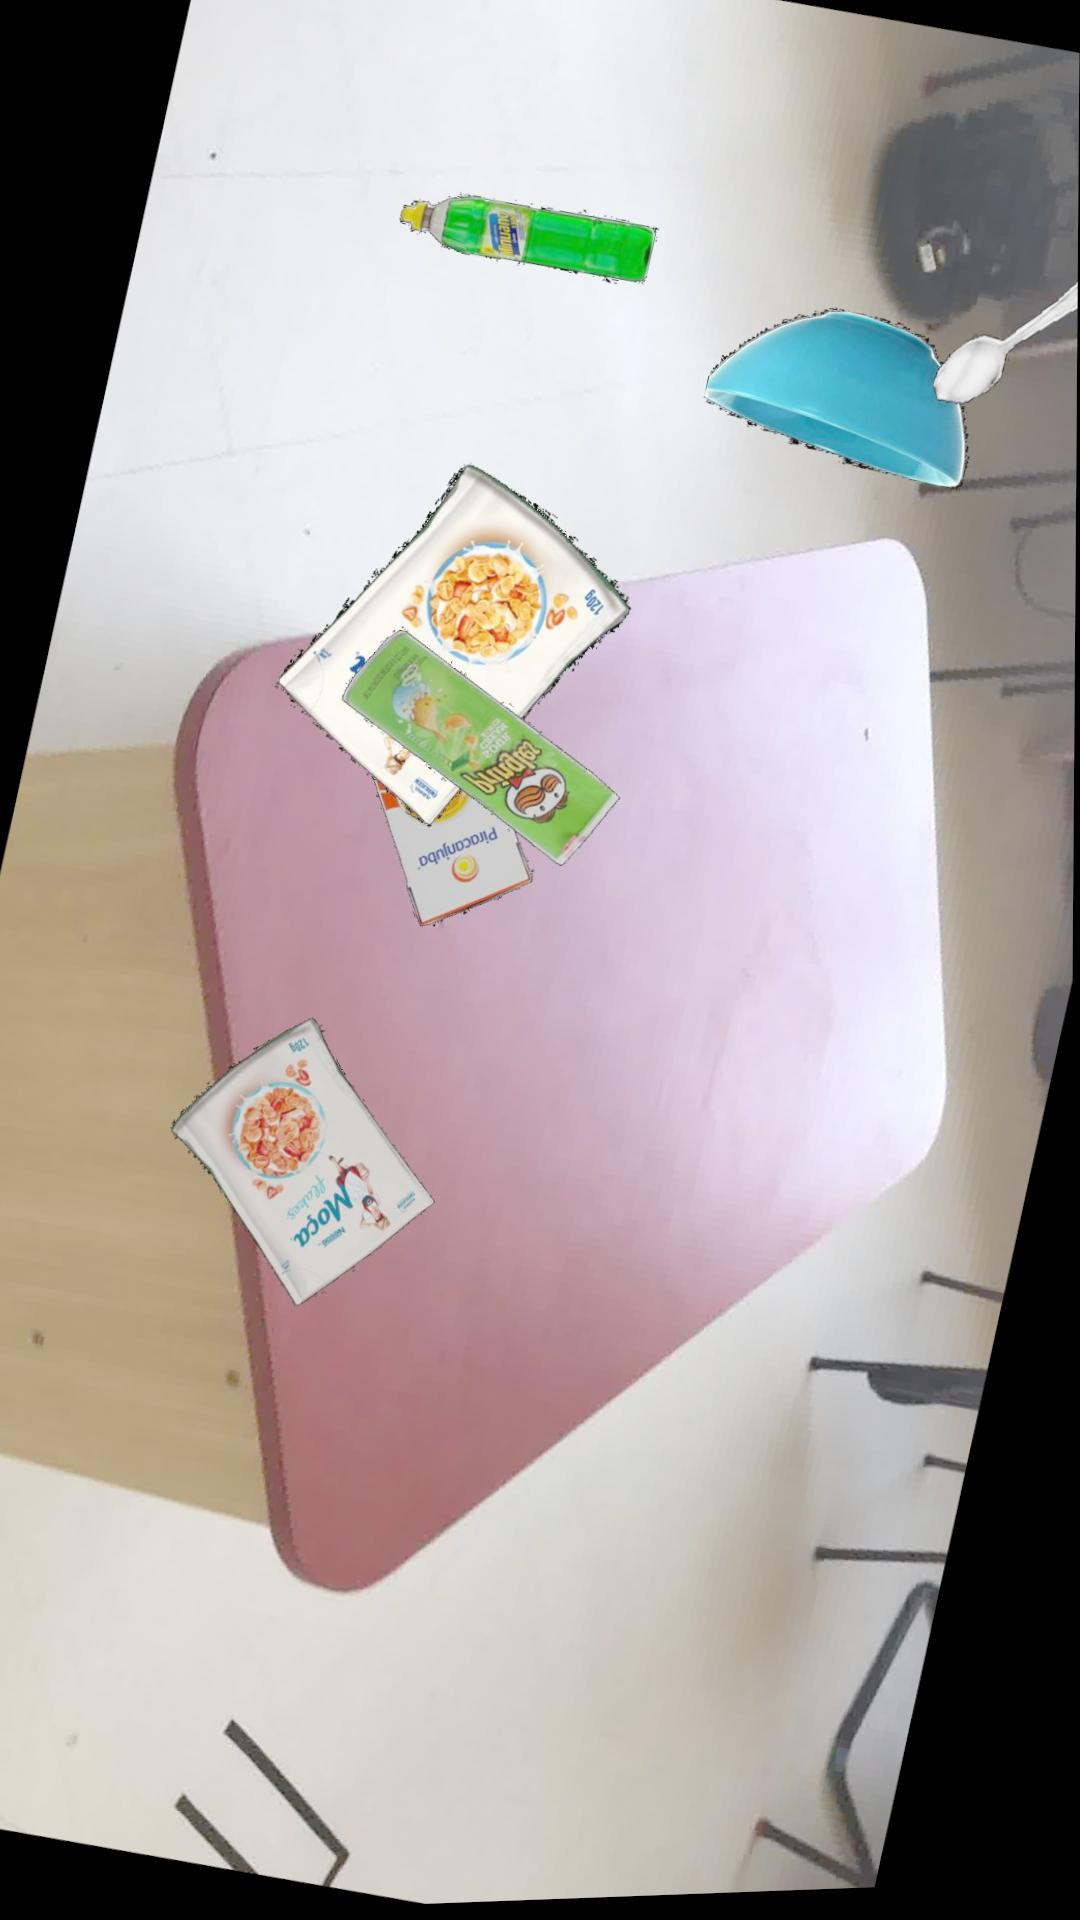bowl: (702, 316, 967, 498)
cleaner: (398, 199, 657, 289)
corn flakes: (274, 469, 630, 832), (170, 1022, 434, 1309)
pringles: (340, 634, 618, 872)
spoon: (931, 289, 1079, 413)
